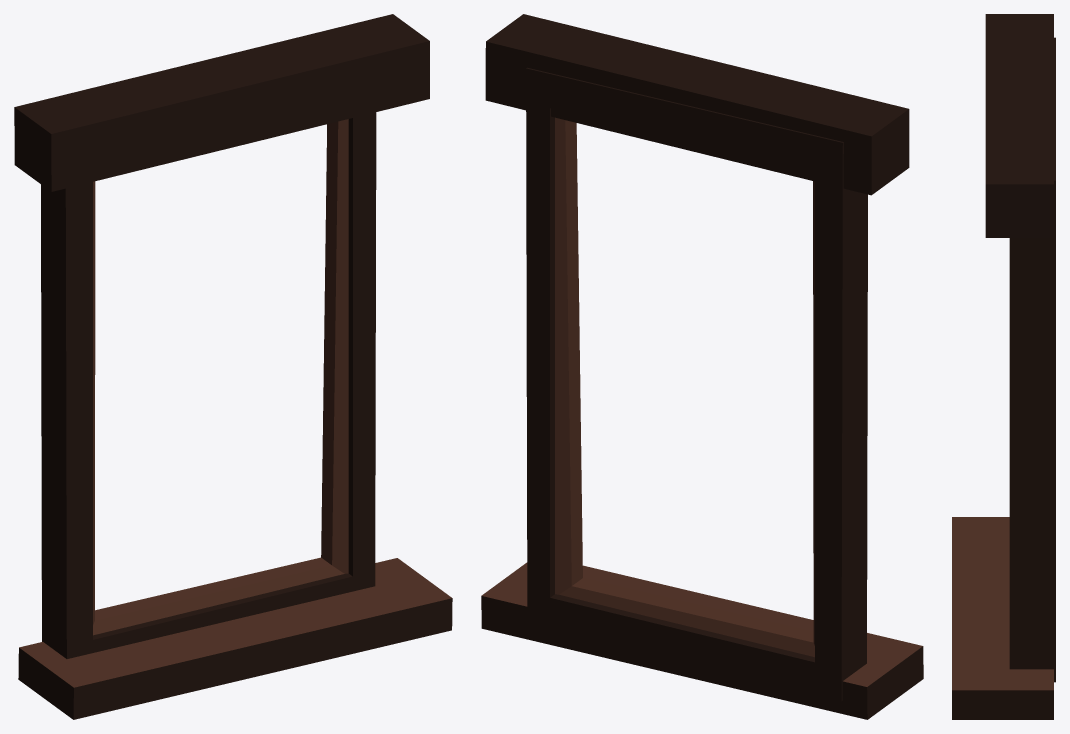
File: Window 2x4 V2 Frame.glb
3 views of the same model, side by side, from view 1: azimuth 30°, elevation 25°; view 2: azimuth 150°, elevation 25°; view 3: azimuth 270°, elevation 25° (orthographic). The views are drawn at different scales.
Parts seen in each view (by area): view 1: Window 2x4 V2 Frame; view 2: Window 2x4 V2 Frame; view 3: Window 2x4 V2 Frame.
Part boxes in pixels (box(x1,y1,x2,y2)): Window 2x4 V2 Frame: box(14, 14, 452, 719); Window 2x4 V2 Frame: box(481, 14, 923, 719); Window 2x4 V2 Frame: box(952, 14, 1055, 719).
Size of the model in its own units: 1.42 by 2.05 by 0.3601.
1 material, 1 textured.
